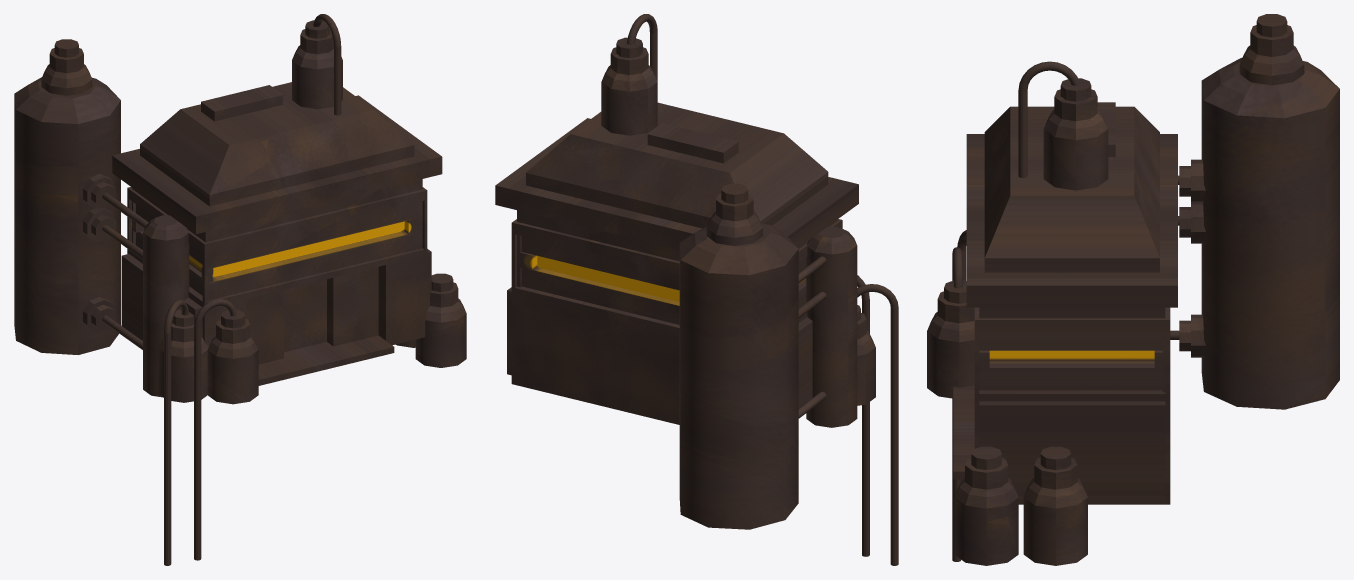
File: building2.FBX
3 views of the same model, side by side, from view 1: azimuth 30°, elevation 25°; view 2: azimuth 150°, elevation 25°; view 3: azimuth 270°, elevation 25° (orthographic). The views are drawn at different scales.
Visible parts, largest first — view 1: Box004, Cylinder023, Cylinder022, Cylinder017, Cylinder016, Cylinder019, Cylinder018, Torus006, Torus003, Cylinder030, Box005, Torus007 (+3 smaller); view 2: Box004, Cylinder023, Cylinder022, Cylinder019, Torus003, Cylinder030, Box005, Torus006, Cylinder018, Torus007; view 3: Box004, Cylinder023, Cylinder020, Cylinder016, Cylinder019, Cylinder017, Cylinder030, Torus007, Cylinder029, Cylinder027, Torus006, Cylinder028 (+1 smaller).
Boxes of the visible parts, x1=… form: Box004: x1=112, y1=82, x2=442, y2=385; Cylinder023: x1=14, y1=77, x2=120, y2=354; Cylinder022: x1=143, y1=215, x2=189, y2=397; Cylinder017: x1=207, y1=309, x2=258, y2=404; Cylinder016: x1=415, y1=273, x2=466, y2=367; Cylinder019: x1=292, y1=20, x2=342, y2=109; Cylinder018: x1=158, y1=309, x2=208, y2=402; Torus006: x1=194, y1=298, x2=236, y2=560; Torus003: x1=164, y1=299, x2=188, y2=565; Cylinder030: x1=41, y1=39, x2=92, y2=95; Box005: x1=201, y1=85, x2=283, y2=121; Torus007: x1=313, y1=14, x2=341, y2=115; Box004: x1=495, y1=102, x2=858, y2=424; Cylinder023: x1=679, y1=223, x2=798, y2=529; Cylinder022: x1=806, y1=226, x2=857, y2=427; Cylinder019: x1=601, y1=37, x2=657, y2=135; Torus003: x1=857, y1=284, x2=898, y2=565; Cylinder030: x1=706, y1=183, x2=762, y2=245; Box005: x1=647, y1=123, x2=738, y2=163; Torus006: x1=857, y1=275, x2=869, y2=556; Cylinder018: x1=857, y1=305, x2=875, y2=405; Torus007: x1=627, y1=14, x2=657, y2=80; Box004: x1=953, y1=106, x2=1177, y2=504; Cylinder023: x1=1201, y1=58, x2=1339, y2=409; Cylinder020: x1=1023, y1=446, x2=1087, y2=565; Cylinder016: x1=954, y1=446, x2=1018, y2=565; Cylinder019: x1=1043, y1=78, x2=1108, y2=190; Cylinder017: x1=927, y1=280, x2=974, y2=398; Cylinder030: x1=1239, y1=14, x2=1304, y2=85; Torus007: x1=1018, y1=61, x2=1080, y2=177; Cylinder029: x1=1179, y1=314, x2=1205, y2=357; Cylinder027: x1=1179, y1=159, x2=1205, y2=202; Torus006: x1=952, y1=247, x2=962, y2=561; Cylinder028: x1=1179, y1=202, x2=1205, y2=243.
Bounding box in the file's own units: 331 × 453 × 282.
